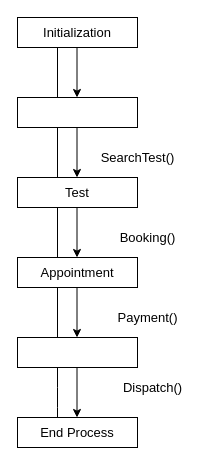
The diagram is 205 pixels wide and 465 high, and some of its shapes have lost their labels. Here are the shapes that lost their labels. From the top down, the centre of each, then its label:
At point (77, 112): "Patient".
At point (77, 352): "Payment".
